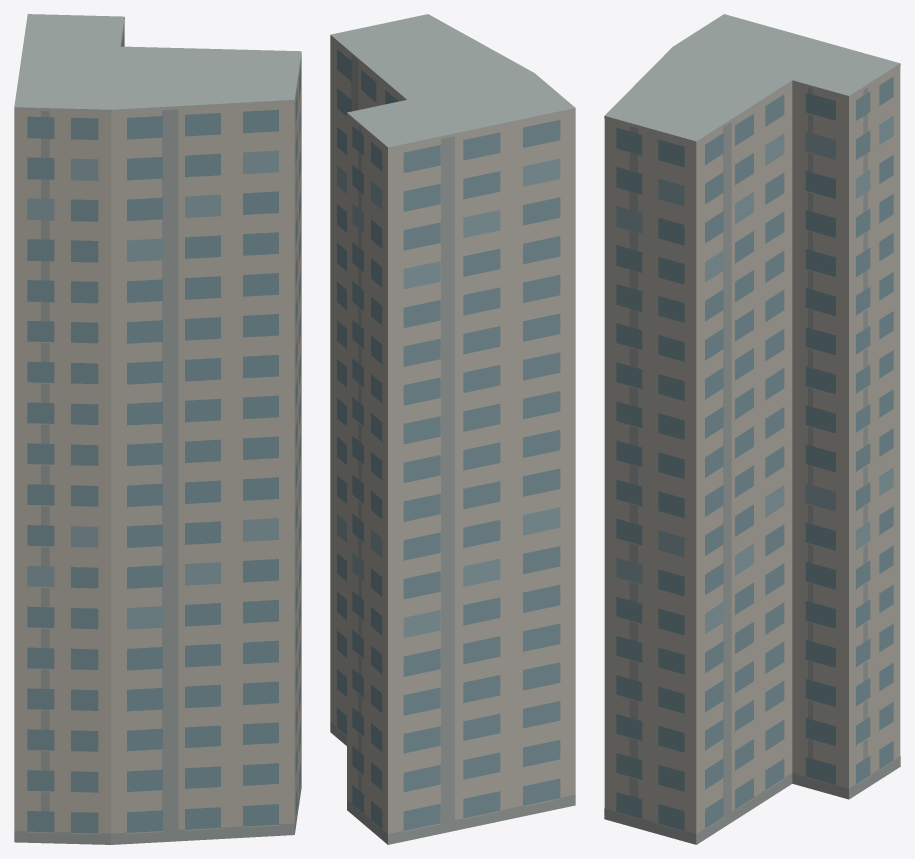
File: residential-8728f2a0-8e14-49dd-a876-482a1073781e.glb
The picture shows the model from 3 angles, left to right: view 1: azimuth 30°, elevation 25°; view 2: azimuth 150°, elevation 25°; view 3: azimuth 270°, elevation 25°; orthographic projection. The views are drawn at different scales.
Visible parts, largest first — view 1: residential-8728f2a0-8e14-49dd-a876-482a1073781e.tmp; view 2: residential-8728f2a0-8e14-49dd-a876-482a1073781e.tmp; view 3: residential-8728f2a0-8e14-49dd-a876-482a1073781e.tmp.
Boxes of the visible parts, x1,y1,x2,y2 form: residential-8728f2a0-8e14-49dd-a876-482a1073781e.tmp: (14,14,301,844); residential-8728f2a0-8e14-49dd-a876-482a1073781e.tmp: (330,14,575,844); residential-8728f2a0-8e14-49dd-a876-482a1073781e.tmp: (604,14,900,844).
Bounding box in the file's own units: 22.94 × 59 × 22.51.
